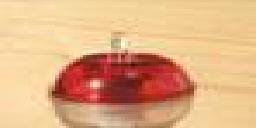LED: (48, 36, 197, 128)
